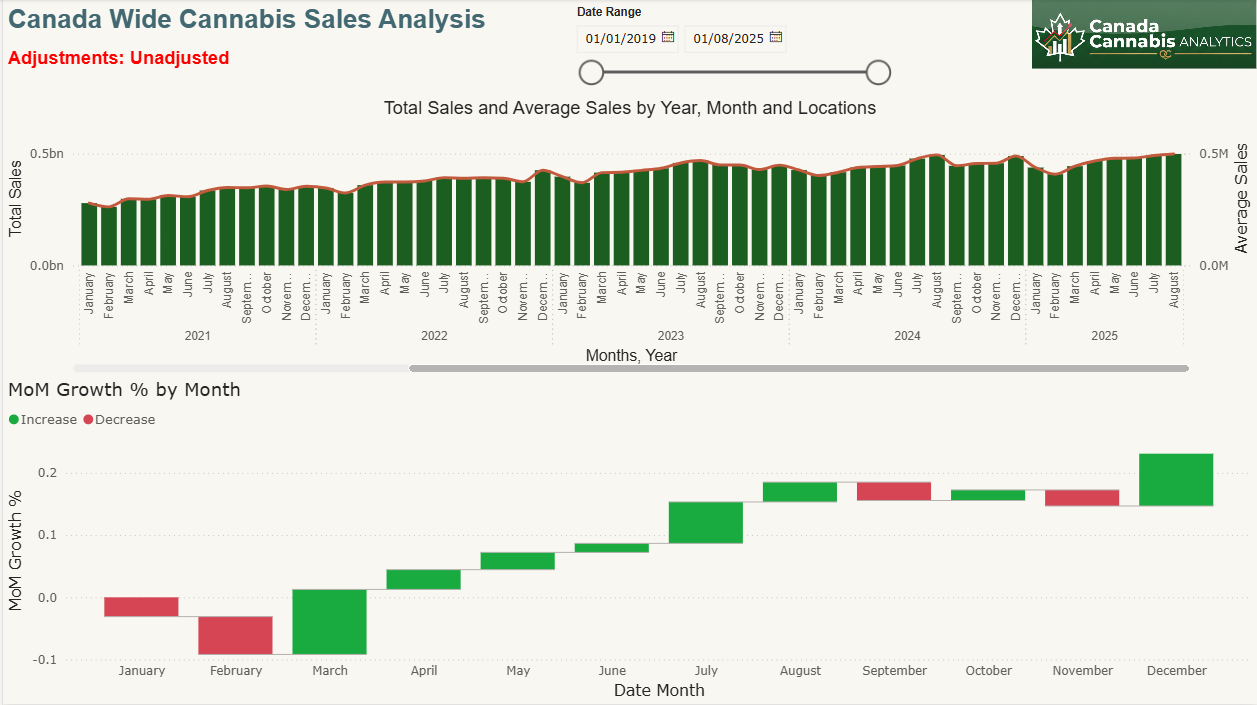

What the dashboard file says about the page in this screenshot:
{"tool":"powerbi","page":{"name":"Canada Wide Cannabis Sales Analysis","canvas":[1280,720],"ordinal":0},"visuals":[{"type":"textbox","box":[0,1,500.9,78.7],"z":0},{"type":"lineClusteredColumnComboChart","fields":{"Category":["Dates.Date.Variation.Date Hierarchy.Year","Dates.Date.Variation.Date Hierarchy.Month"],"Y":["select","Sum(Cannabis Retail Sales.Sales)"],"Series":["Cannabis Retail Sales.Locations"],"Y2":["Cannabis Retail Sales.Average Sales"]},"box":[0,72,1280,313.8],"z":1000},{"type":"slicer","fields":{"Values":["Dates.Date.Variation.Date Hierarchy.Year"]},"box":[500.9,0,177.5,72],"z":2000},{"type":"waterfallChart","fields":{"Y":["Cannabis Retail Sales.MoM Growth %"],"Category":["Dates.Date.Variation.Date Hierarchy.Year","Dates.Date.Variation.Date Hierarchy.Month"]},"box":[658.2,385.7,621.8,333.9],"z":3000},{"type":"lineChart","title":"Rolling 12 Months Sales","fields":{"Category":["Dates.Date.Variation.Date Hierarchy.Year","Dates.Date.Variation.Date Hierarchy.Month"],"Y":["Cannabis Retail Sales.Rolling Sales 12M"]},"box":[0,385.7,658.2,333.9],"z":4000},{"type":"slicer","fields":{"Values":["Dates.Date.Variation.Date Hierarchy.Month"]},"box":[678.4,0,189,72],"z":5000},{"type":"image","box":[1050.7,1,229.3,70],"z":5001}]}

Visuals, with their boxes in screenshot pixels (x1, y1, x2, y2), scaled from the page's 1280x720 canvas onto the 1257x705 screenshot:
textbox: (0,1,492,78)
lineClusteredColumnComboChart - Dates.Date.Variation.Date Hierarchy.Year x Dates.Date.Variation.Date Hierarchy.Month: (0,70,1256,378)
slicer - Dates.Date.Variation.Date Hierarchy.Year: (492,0,666,70)
waterfallChart - Cannabis Retail Sales.MoM Growth % x Dates.Date.Variation.Date Hierarchy.Year: (646,378,1256,704)
"Rolling 12 Months Sales" lineChart: (0,378,646,704)
slicer - Dates.Date.Variation.Date Hierarchy.Month: (666,0,852,70)
image: (1032,1,1256,70)
